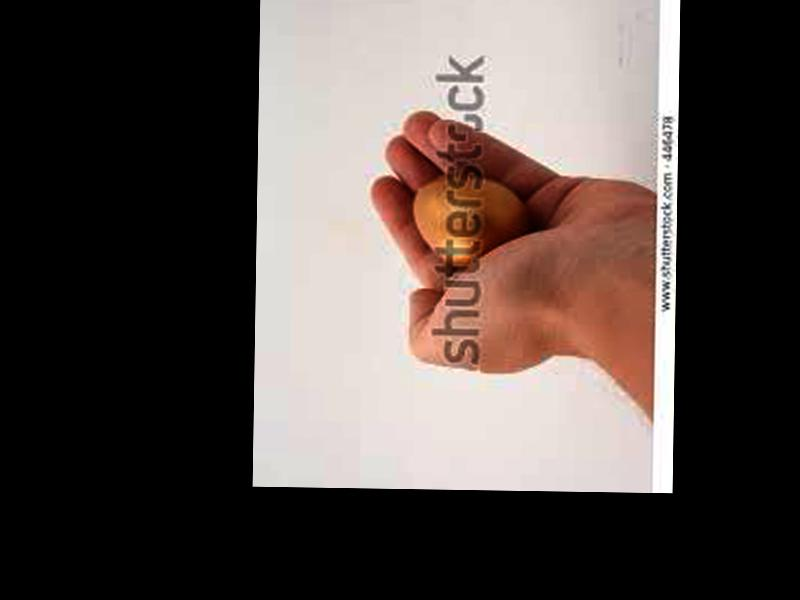Eggs: (412, 175, 528, 264)
